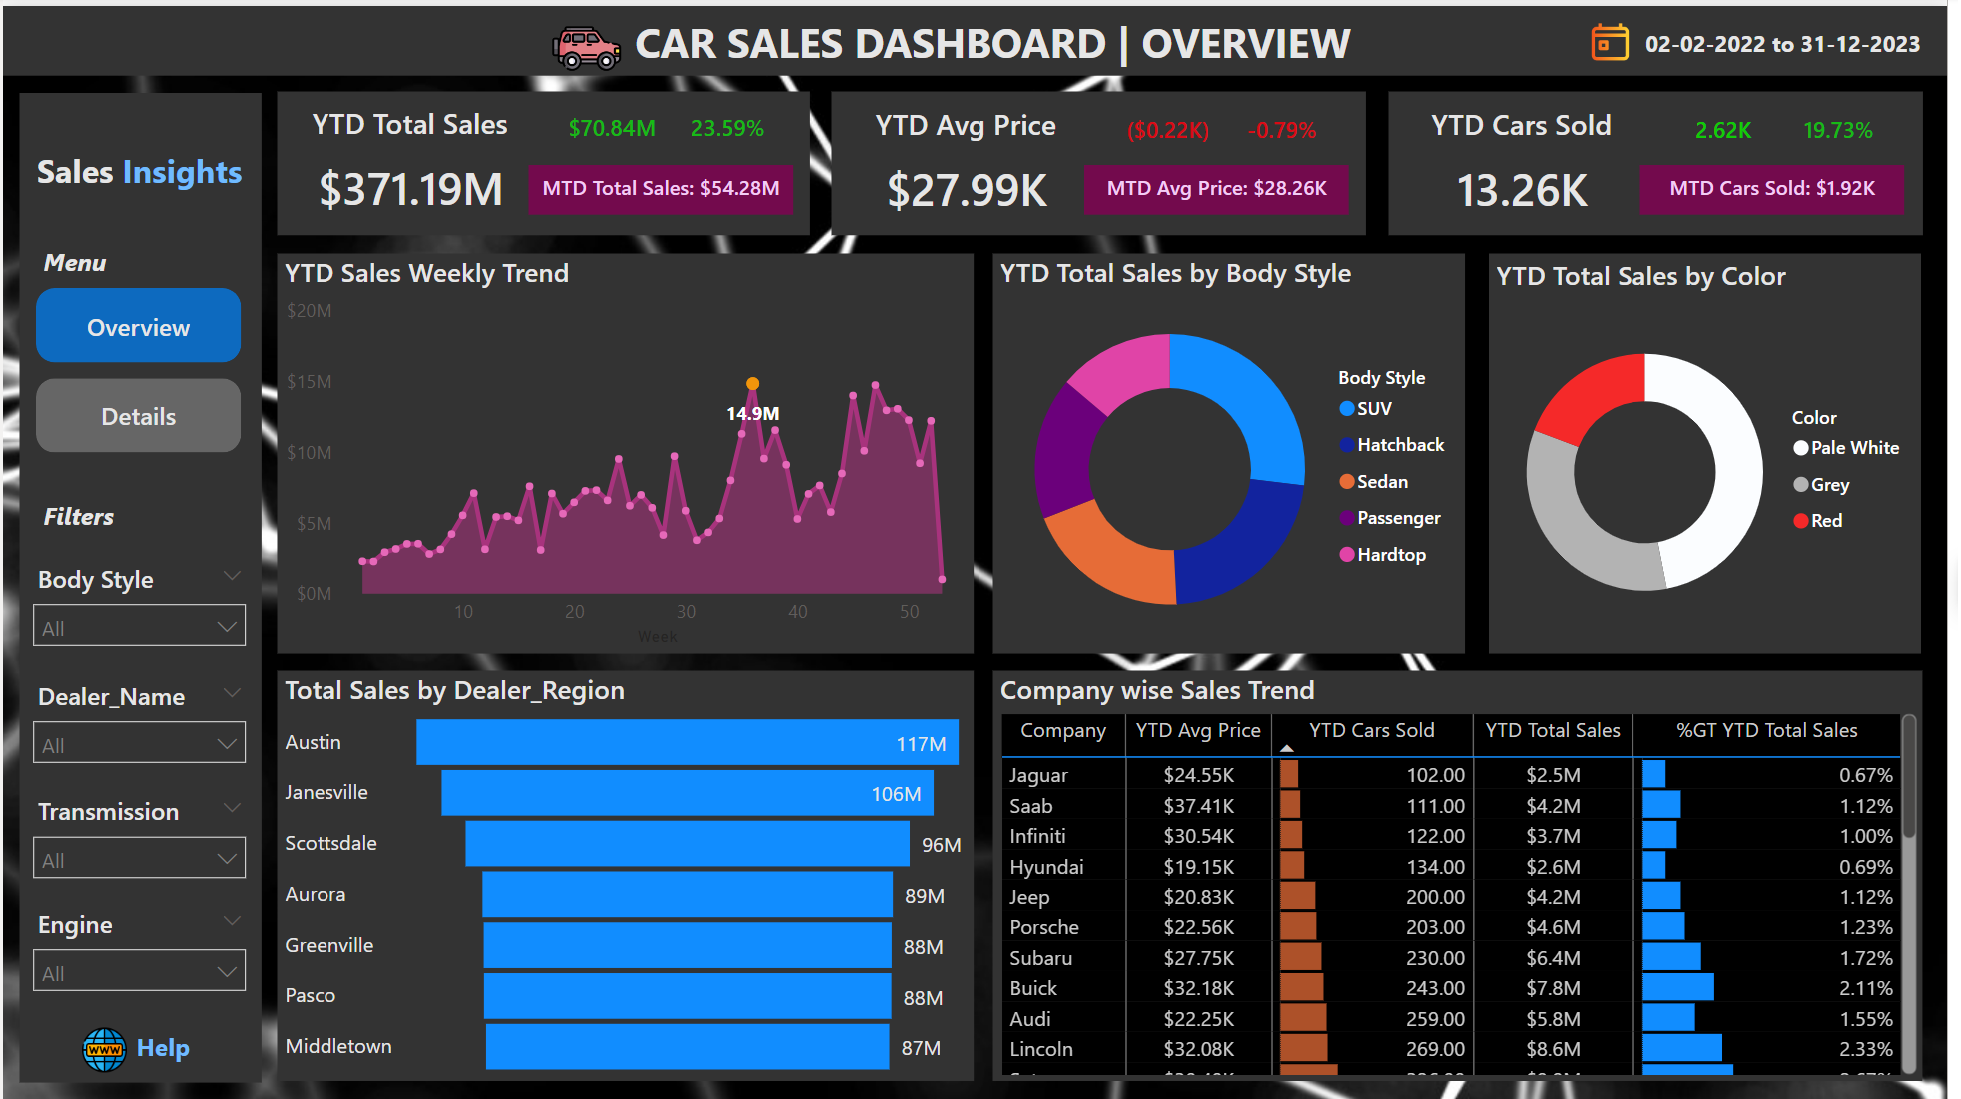

The page's visual inventory and layout, read from the dashboard file:
{"tool":"powerbi","page":{"name":"Overview","canvas":[1280,720],"ordinal":0},"visuals":[{"type":"shape","box":[0,0,1280,45.8],"z":0},{"type":"shape","box":[10.6,57.1,159.4,650.6],"z":1000},{"type":"shape","box":[180.8,56.2,350.7,94.5],"z":2000},{"type":"shape","box":[180.8,163,458.9,263],"z":3000},{"type":"shape","box":[545.2,56.2,352.1,94.5],"z":4000},{"type":"shape","box":[912.3,56.2,352.1,94.5],"z":5000},{"type":"shape","box":[652.1,163,311,263],"z":6000},{"type":"shape","box":[978.1,163,284.9,263],"z":7000},{"type":"shape","box":[180.8,437,458.9,269.9],"z":8000},{"type":"shape","box":[652.1,437,612.3,269.9],"z":9000},{"type":"card","title":"YTD Total Sales","fields":{"Values":["car_data.YTD Total Sales"]},"box":[180.8,64.4,175.3,86.3],"z":10000},{"type":"card","fields":{"Values":["car_data.Sales Difference"]},"box":[346.6,64.4,109.6,35.6],"z":11000},{"type":"card","fields":{"Values":["car_data.YoY Sales Growth"]},"box":[421.9,64.4,109.6,35.6],"z":12000},{"type":"card","fields":{"Values":["car_data.MTD KPI"]},"box":[346.6,104.1,174,32.9],"z":13000},{"type":"card","title":"YTD Avg Price","fields":{"Values":["car_data.YTD Avg Price"]},"box":[546.1,65.3,175.3,86.3],"z":14000},{"type":"card","fields":{"Values":["car_data.Avg Price Difference"]},"box":[711.8,65.3,109.6,35.6],"z":15000},{"type":"card","fields":{"Values":["car_data.YoY Avg Price Growth"]},"box":[787.2,65.3,109.6,35.6],"z":16000},{"type":"card","fields":{"Values":["car_data.MTD Avg Price KPI"]},"box":[711.8,105,174,32.9],"z":17000},{"type":"card","title":"YTD Cars Sold","fields":{"Values":["car_data.YTD Cars Sold"]},"box":[912.3,65.3,175.3,86.3],"z":18000},{"type":"card","fields":{"Values":["car_data.Cars Sold Difference"]},"box":[1078,65.3,109.6,35.6],"z":19000},{"type":"card","fields":{"Values":["car_data.YoY Cars Sold Growth"]},"box":[1153.4,65.3,109.6,35.6],"z":20000},{"type":"card","fields":{"Values":["car_data.MTD Cars Sold KPIS"]},"box":[1078,105,174,32.9],"z":21000},{"type":"areaChart","title":"YTD Sales Weekly Trend","fields":{"Category":["Calander Table.Week"],"Y":["Sum(car_data.Price ($))","car_data.Max Point"]},"box":[180.2,163,459.8,262.4],"z":22000},{"type":"donutChart","fields":{"Category":["car_data.Body Style"],"Y":["car_data.YTD Total Sales"]},"box":[651.9,163,311.4,259.7],"z":23000},{"type":"donutChart","fields":{"Category":["car_data.Color"],"Y":["car_data.YTD Total Sales"]},"box":[977.9,164.3,284.9,259.7],"z":24000},{"type":"funnel","fields":{"Y":["car_data.Total Sales"],"Category":["car_data.Dealer_Region"]},"box":[180.2,437.3,458.5,270.3],"z":25000},{"type":"tableEx","title":"Company wise Sales Trend","fields":{"Values":["car_data.Company","car_data.YTD Avg Price","car_data.YTD Cars Sold","car_data.YTD Total Sales","Divide(car_data.YTD Total Sales, ScopedEval(car_data.YTD Total Sales, []))"]},"box":[651.4,437.1,612.9,270],"z":26000},{"type":"textbox","box":[384.3,0,534.3,50],"z":27000},{"type":"slicer","fields":{"Values":["car_data.Body Style"]},"box":[10,360,160,81.4],"z":28000},{"type":"textbox","box":[21.4,318.6,114.3,41.4],"z":29000},{"type":"slicer","fields":{"Values":["car_data.Dealer_Name"]},"box":[10,437.1,160,87.1],"z":30000},{"type":"slicer","fields":{"Values":["car_data.Transmission"]},"box":[10,512.9,160,87.1],"z":31000},{"type":"slicer","fields":{"Values":["car_data.Engine"]},"box":[10,587.1,160,87.1],"z":32000},{"type":"textbox","box":[21.4,151.4,114.3,41.4],"z":33000},{"type":"pageNavigator","box":[21.4,185.7,135.7,108.6],"z":34000},{"type":"textbox","box":[9.4,87.6,160,50],"z":35000},{"type":"textbox","box":[1065.4,9.2,214.6,36.9],"z":36000},{"type":"image","box":[348.8,0,70,55.9],"z":37000},{"type":"image","box":[42,665,48,43],"z":38000},{"type":"image","box":[1036.9,4.6,40.8,36.9],"z":39000},{"type":"textbox","box":[76,668,59,36],"z":40000}]}

Visuals, with their boxes in screenshot pixels (x1, y1, x2, y2), scaled from the page's 1280x720 canvas onto the 1961x1099 screenshot:
shape: box=[0, 0, 1960, 70]
shape: box=[16, 87, 260, 1080]
shape: box=[277, 86, 814, 230]
shape: box=[277, 249, 980, 650]
shape: box=[835, 86, 1375, 230]
shape: box=[1398, 86, 1937, 230]
shape: box=[999, 249, 1475, 650]
shape: box=[1498, 249, 1935, 650]
shape: box=[277, 667, 980, 1079]
shape: box=[999, 667, 1937, 1079]
"YTD Total Sales" card: box=[277, 98, 546, 230]
card - car_data.Sales Difference: box=[531, 98, 699, 153]
card - car_data.YoY Sales Growth: box=[646, 98, 814, 153]
card - car_data.MTD KPI: box=[531, 159, 798, 209]
"YTD Avg Price" card: box=[837, 100, 1105, 231]
card - car_data.Avg Price Difference: box=[1090, 100, 1258, 154]
card - car_data.YoY Avg Price Growth: box=[1206, 100, 1374, 154]
card - car_data.MTD Avg Price KPI: box=[1090, 160, 1357, 210]
"YTD Cars Sold" card: box=[1398, 100, 1666, 231]
card - car_data.Cars Sold Difference: box=[1652, 100, 1819, 154]
card - car_data.YoY Cars Sold Growth: box=[1767, 100, 1935, 154]
card - car_data.MTD Cars Sold KPIS: box=[1652, 160, 1918, 210]
"YTD Sales Weekly Trend" areaChart: box=[276, 249, 980, 649]
donutChart - car_data.Body Style x car_data.YTD Total Sales: box=[999, 249, 1476, 645]
donutChart - car_data.Color x car_data.YTD Total Sales: box=[1498, 251, 1935, 647]
funnel - car_data.Total Sales x car_data.Dealer_Region: box=[276, 667, 979, 1080]
"Company wise Sales Trend" tableEx: box=[998, 667, 1937, 1079]
textbox: box=[589, 0, 1407, 76]
slicer - car_data.Body Style: box=[15, 550, 260, 674]
textbox: box=[33, 486, 208, 550]
slicer - car_data.Dealer_Name: box=[15, 667, 260, 800]
slicer - car_data.Transmission: box=[15, 783, 260, 916]
slicer - car_data.Engine: box=[15, 896, 260, 1029]
textbox: box=[33, 231, 208, 294]
pageNavigator: box=[33, 283, 241, 449]
textbox: box=[14, 134, 260, 210]
textbox: box=[1632, 14, 1960, 70]
image: box=[534, 0, 642, 85]
image: box=[64, 1015, 138, 1081]
image: box=[1589, 7, 1651, 63]
textbox: box=[116, 1020, 207, 1075]
